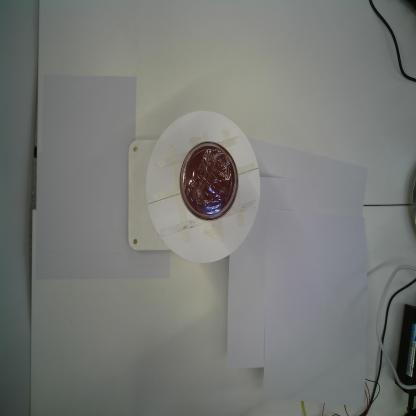Instant Drink: (178, 140, 239, 222)
